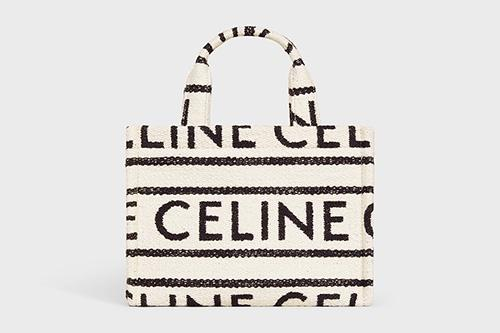CELINE: (155, 199, 350, 242)
